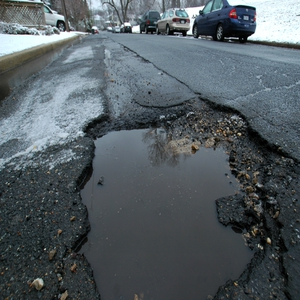pothole: (75, 98, 281, 300)
